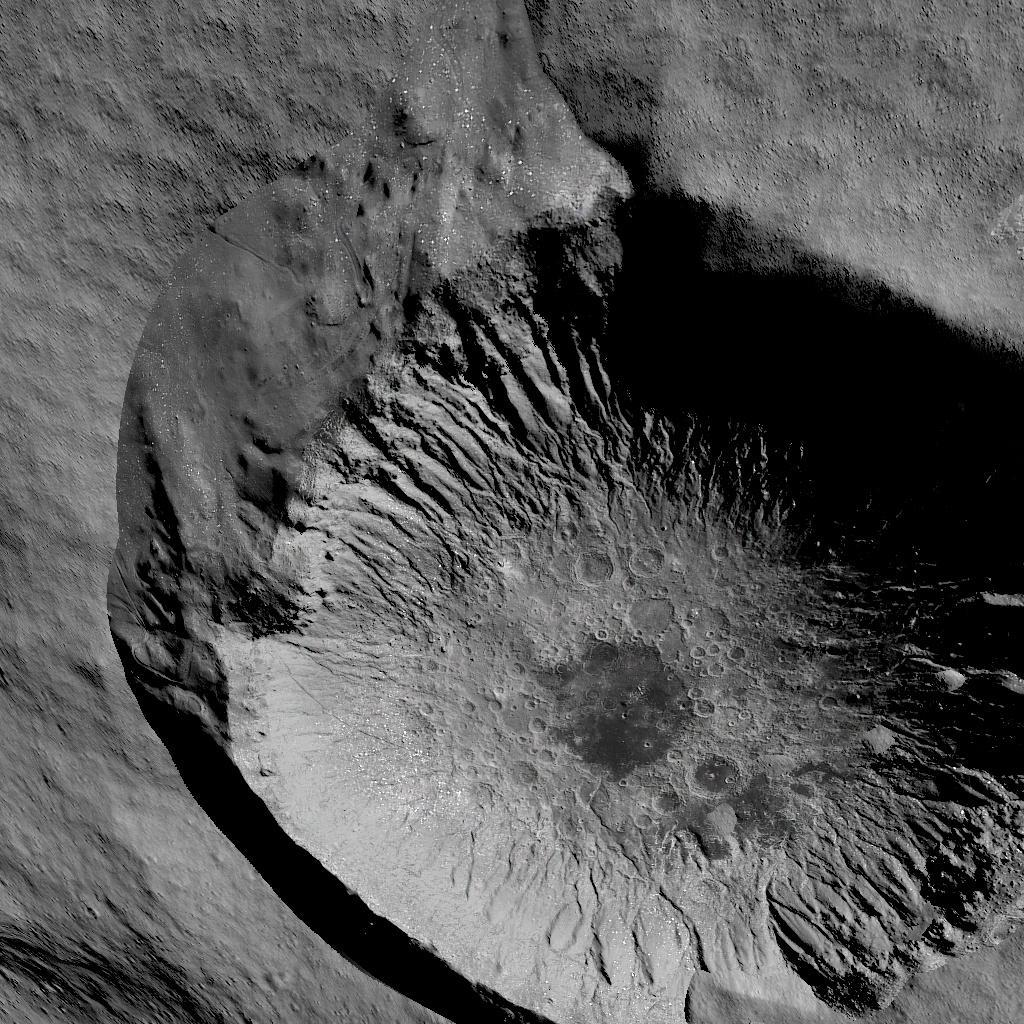Crater: (87, 67, 1024, 1024)
